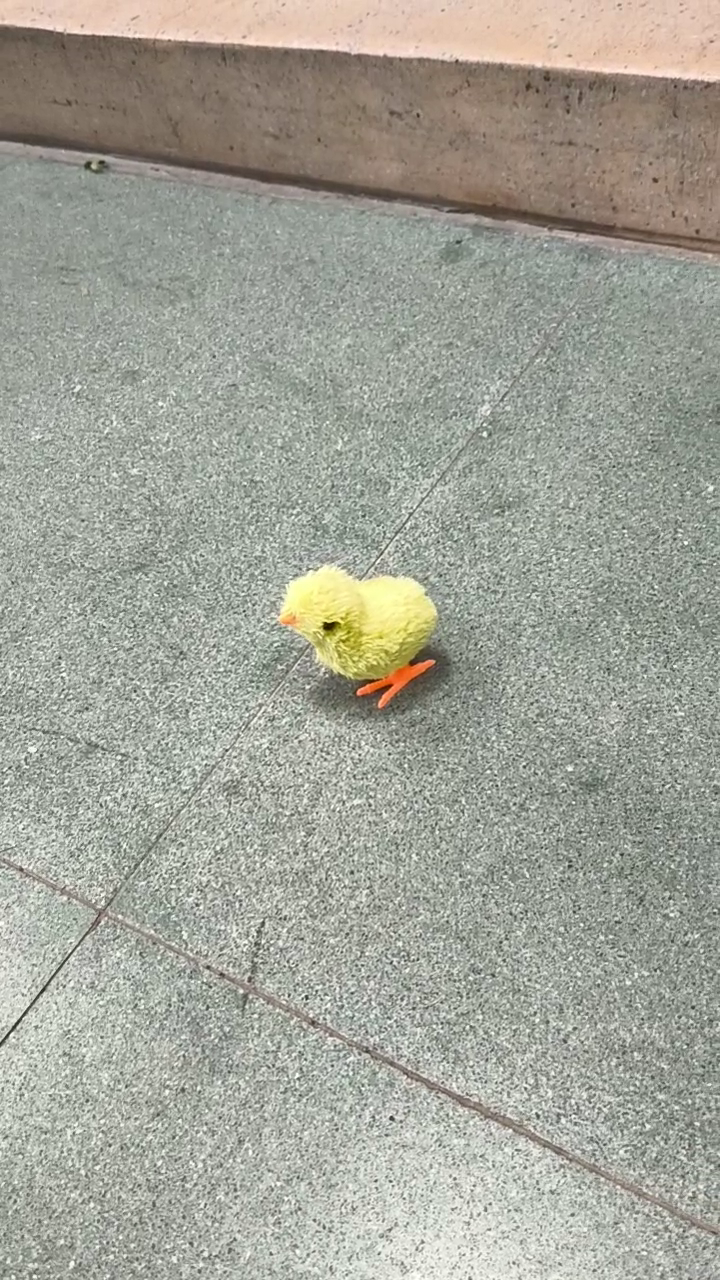yellow chicken: (274, 559, 445, 712)
